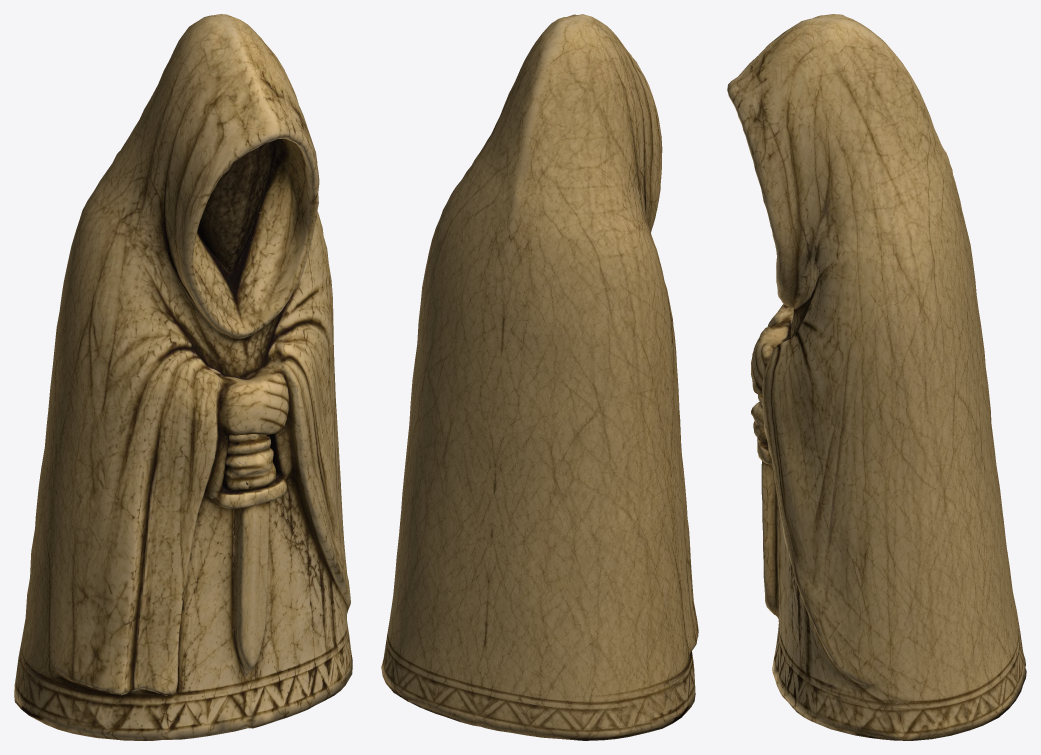
The model's file is nazgul.glb.
The picture shows the model from 3 angles, left to right: view 1: azimuth 30°, elevation 25°; view 2: azimuth 150°, elevation 25°; view 3: azimuth 270°, elevation 25°; orthographic projection. The views are drawn at different scales.
Parts seen in each view (by area): view 1: mesh_node; view 2: mesh_node; view 3: mesh_node.
Part boxes in pixels (x1=…): mesh_node: x1=14, y1=14, x2=352, y2=740; mesh_node: x1=381, y1=14, x2=698, y2=740; mesh_node: x1=727, y1=14, x2=1026, y2=740.
Bounding box in the file's own units: 0.4746 × 1 × 0.417.
1 material, 1 textured.
